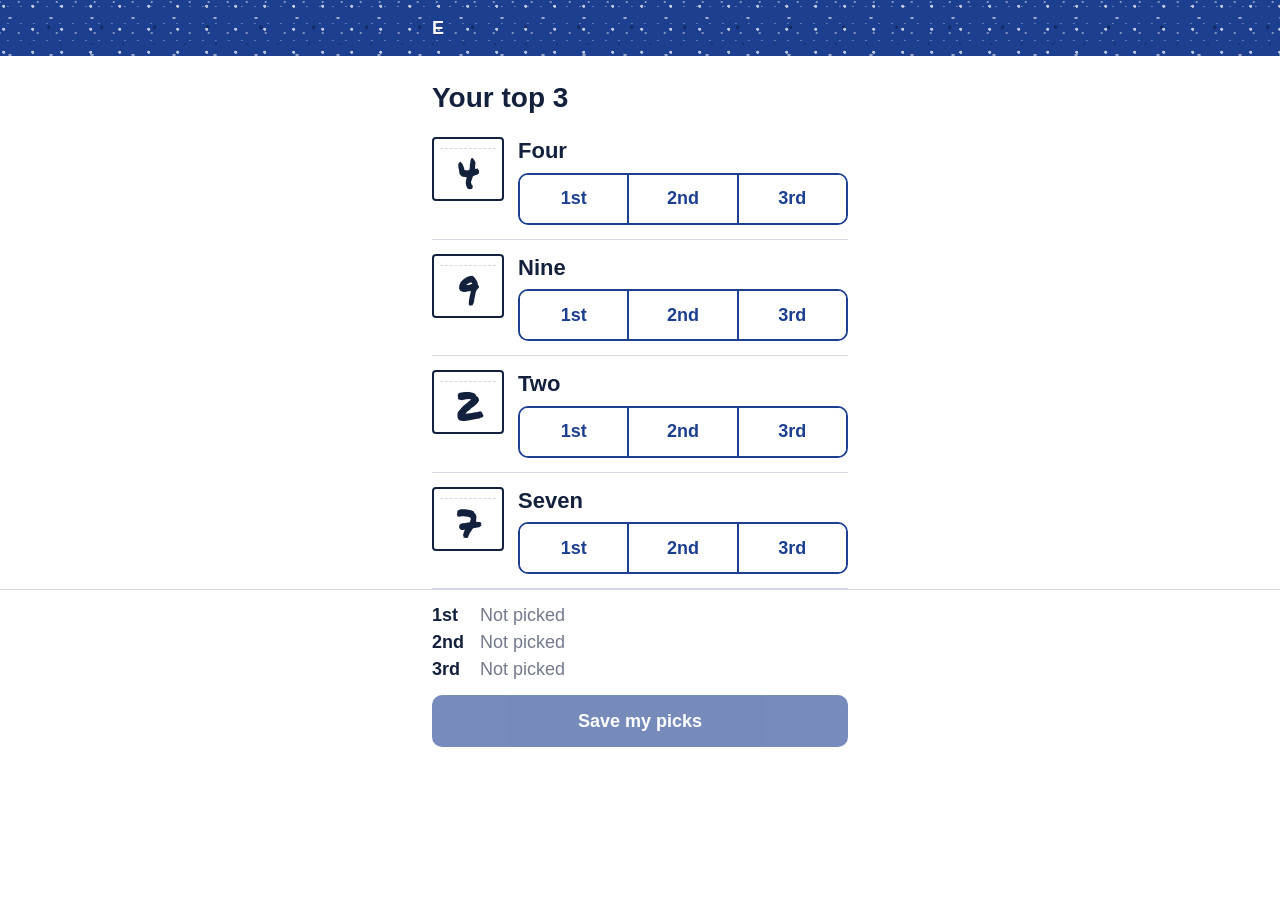
Scenario: ballot screen › saves, clears pending and confirms
Check: the picture named "Pot 4" is shown, box [456,145,480,193]
Click the button "1st" below "Four" at [575, 198], box [520,174,629,222]
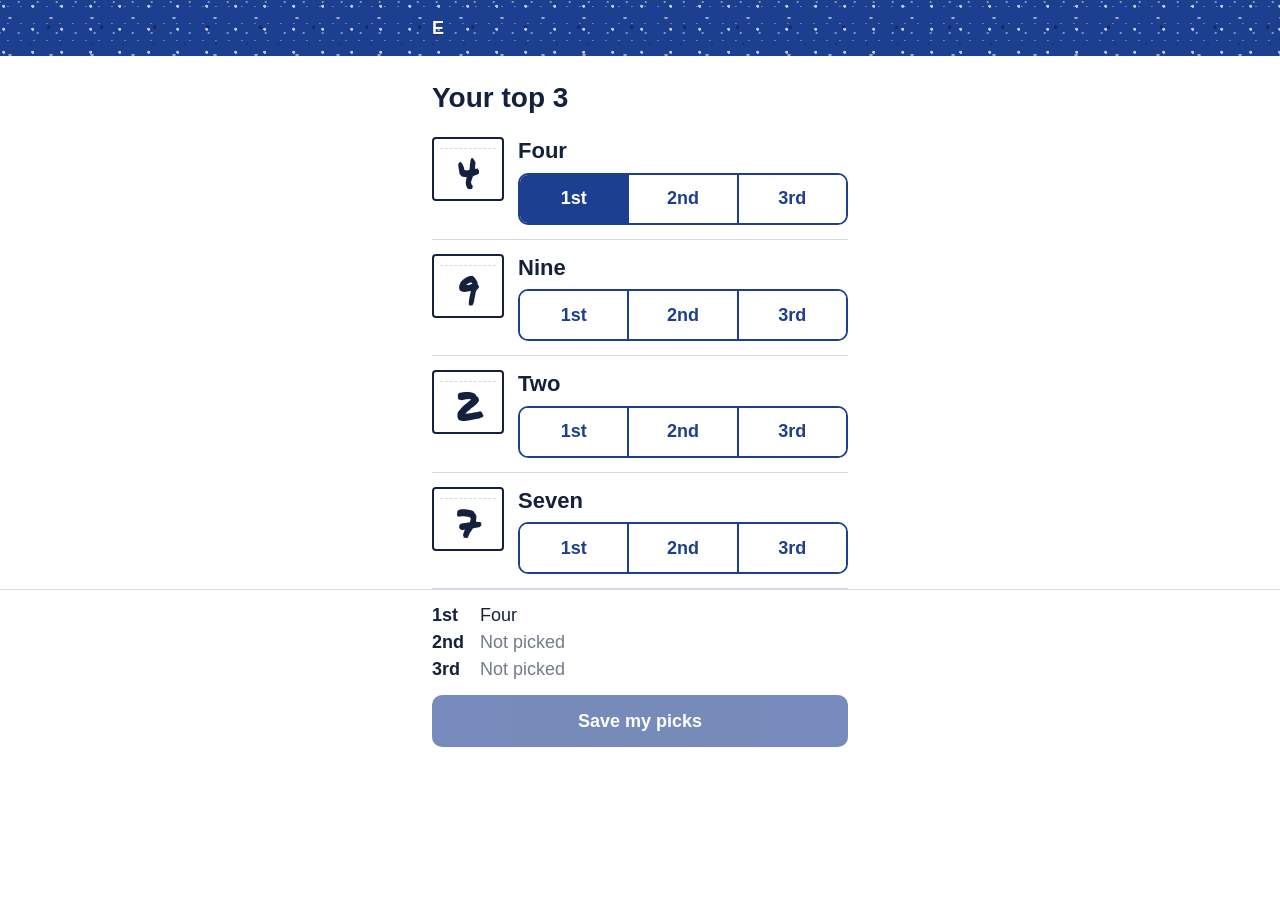
Click the button "2nd" below "Nine" at [684, 315], box [629,291,739,339]
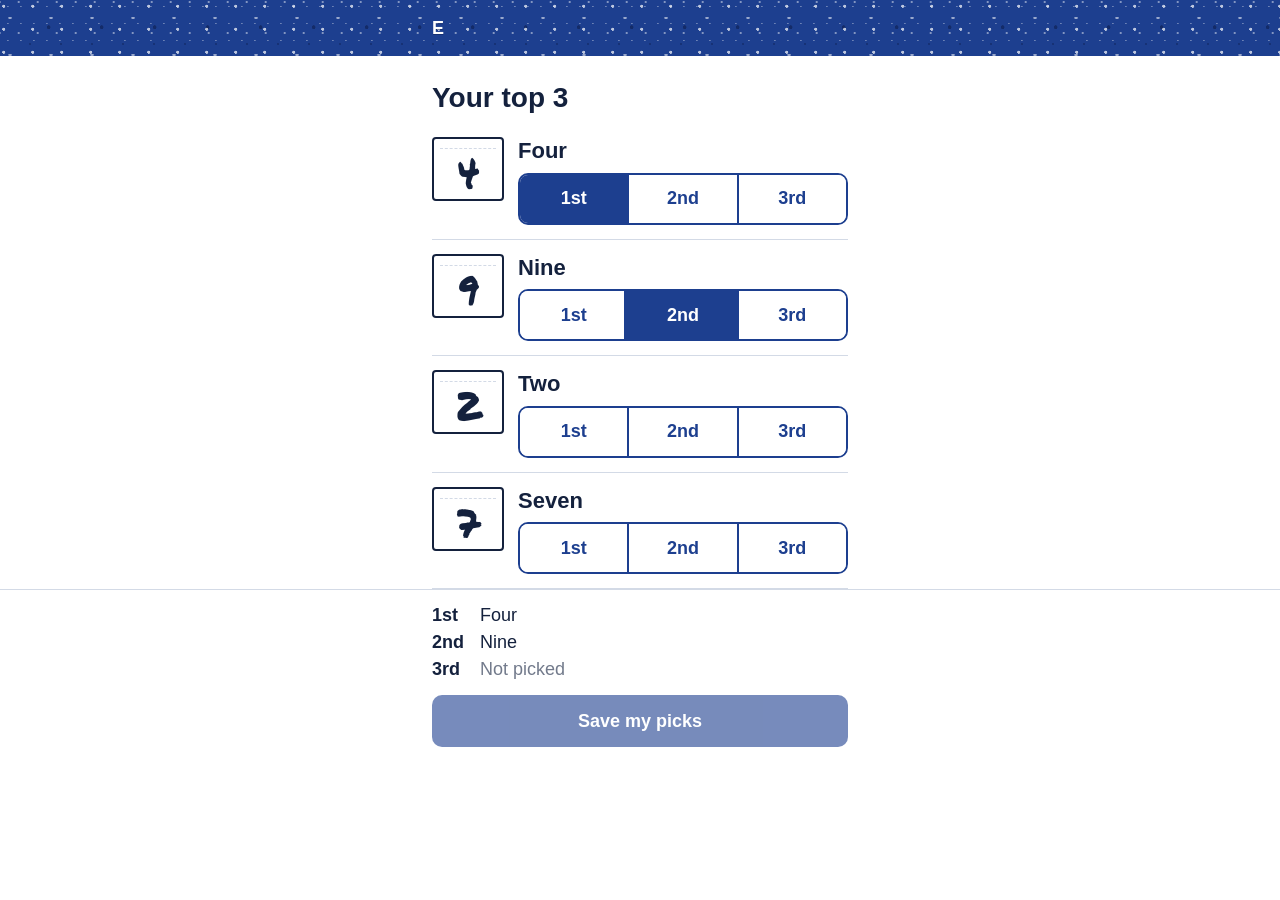
Click the button "3rd" below "Two" at [792, 432], box [739,408,846,456]
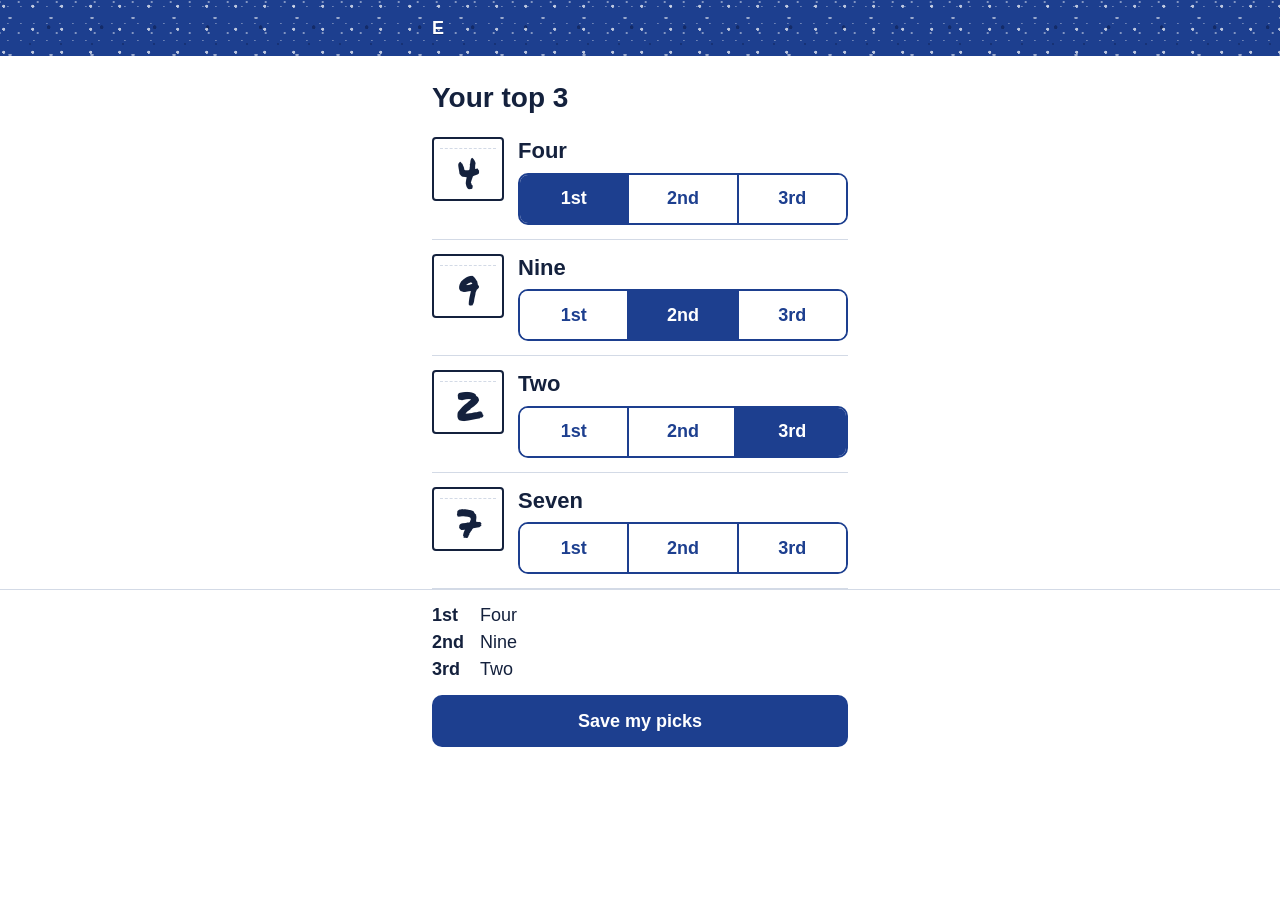
Click the button "Save my picks" at [640, 721], box [432,695,848,747]
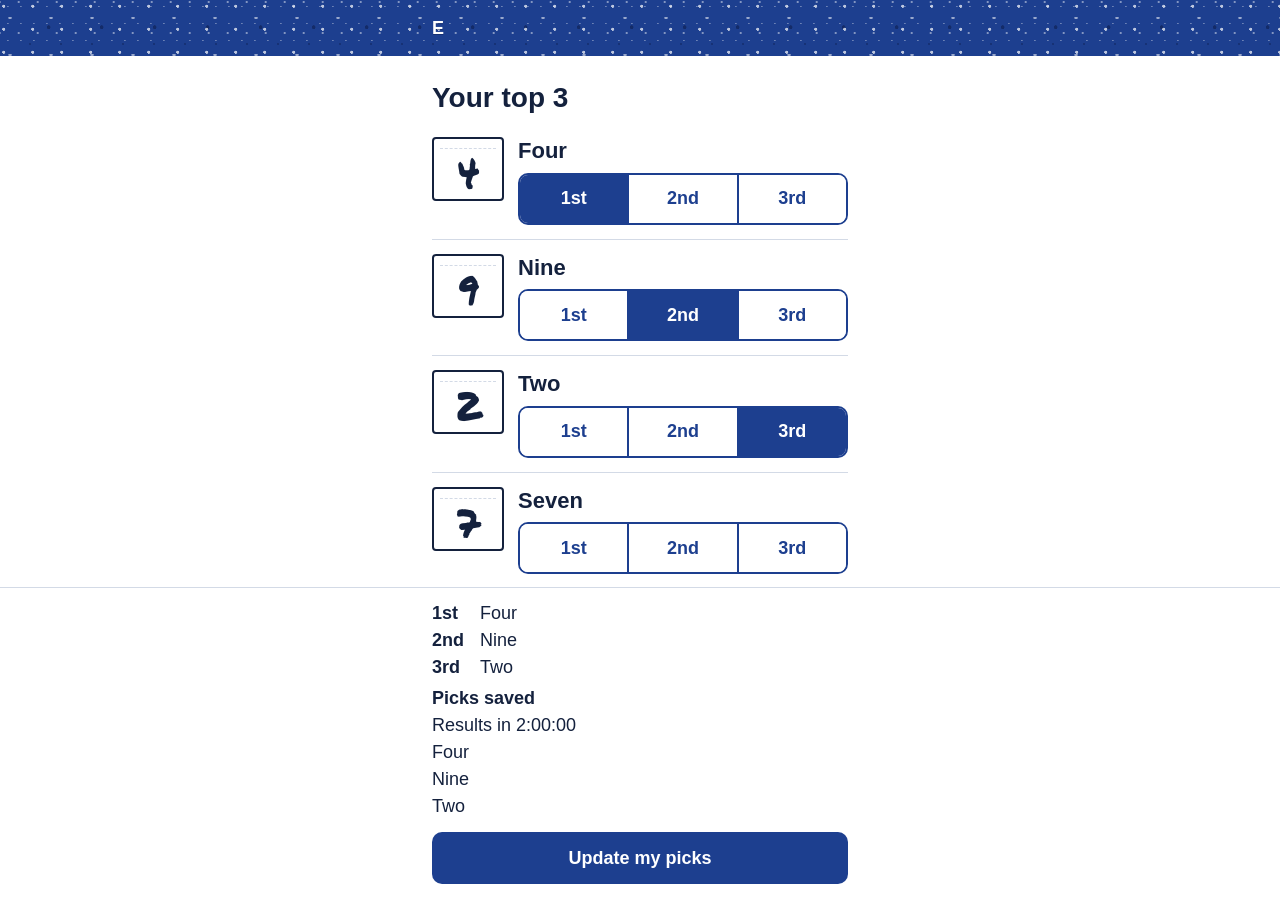
Check: the text "Picks saved" is shown, box [432,688,535,708]
Check: the text "Four" below "Results in" is shown, box [432,742,469,762]
Check: the text "Nine" below "Results in" is shown, box [432,769,469,789]
